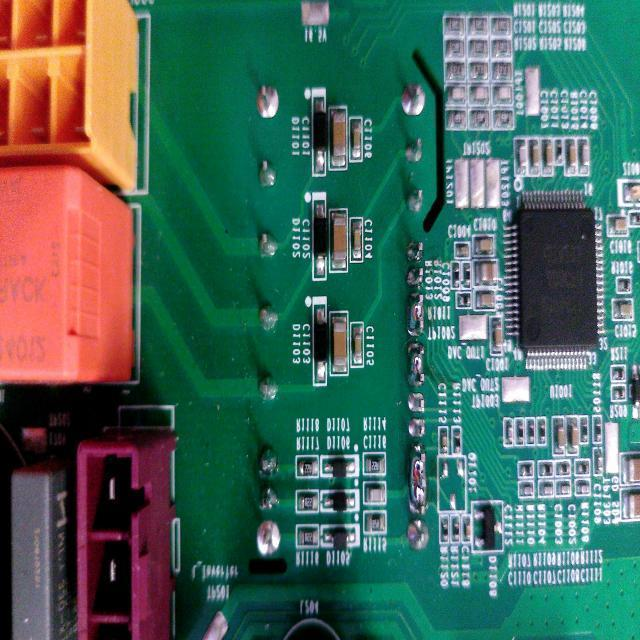Soldering shorted: (404, 438, 436, 516), (404, 288, 428, 339), (404, 340, 427, 390)
